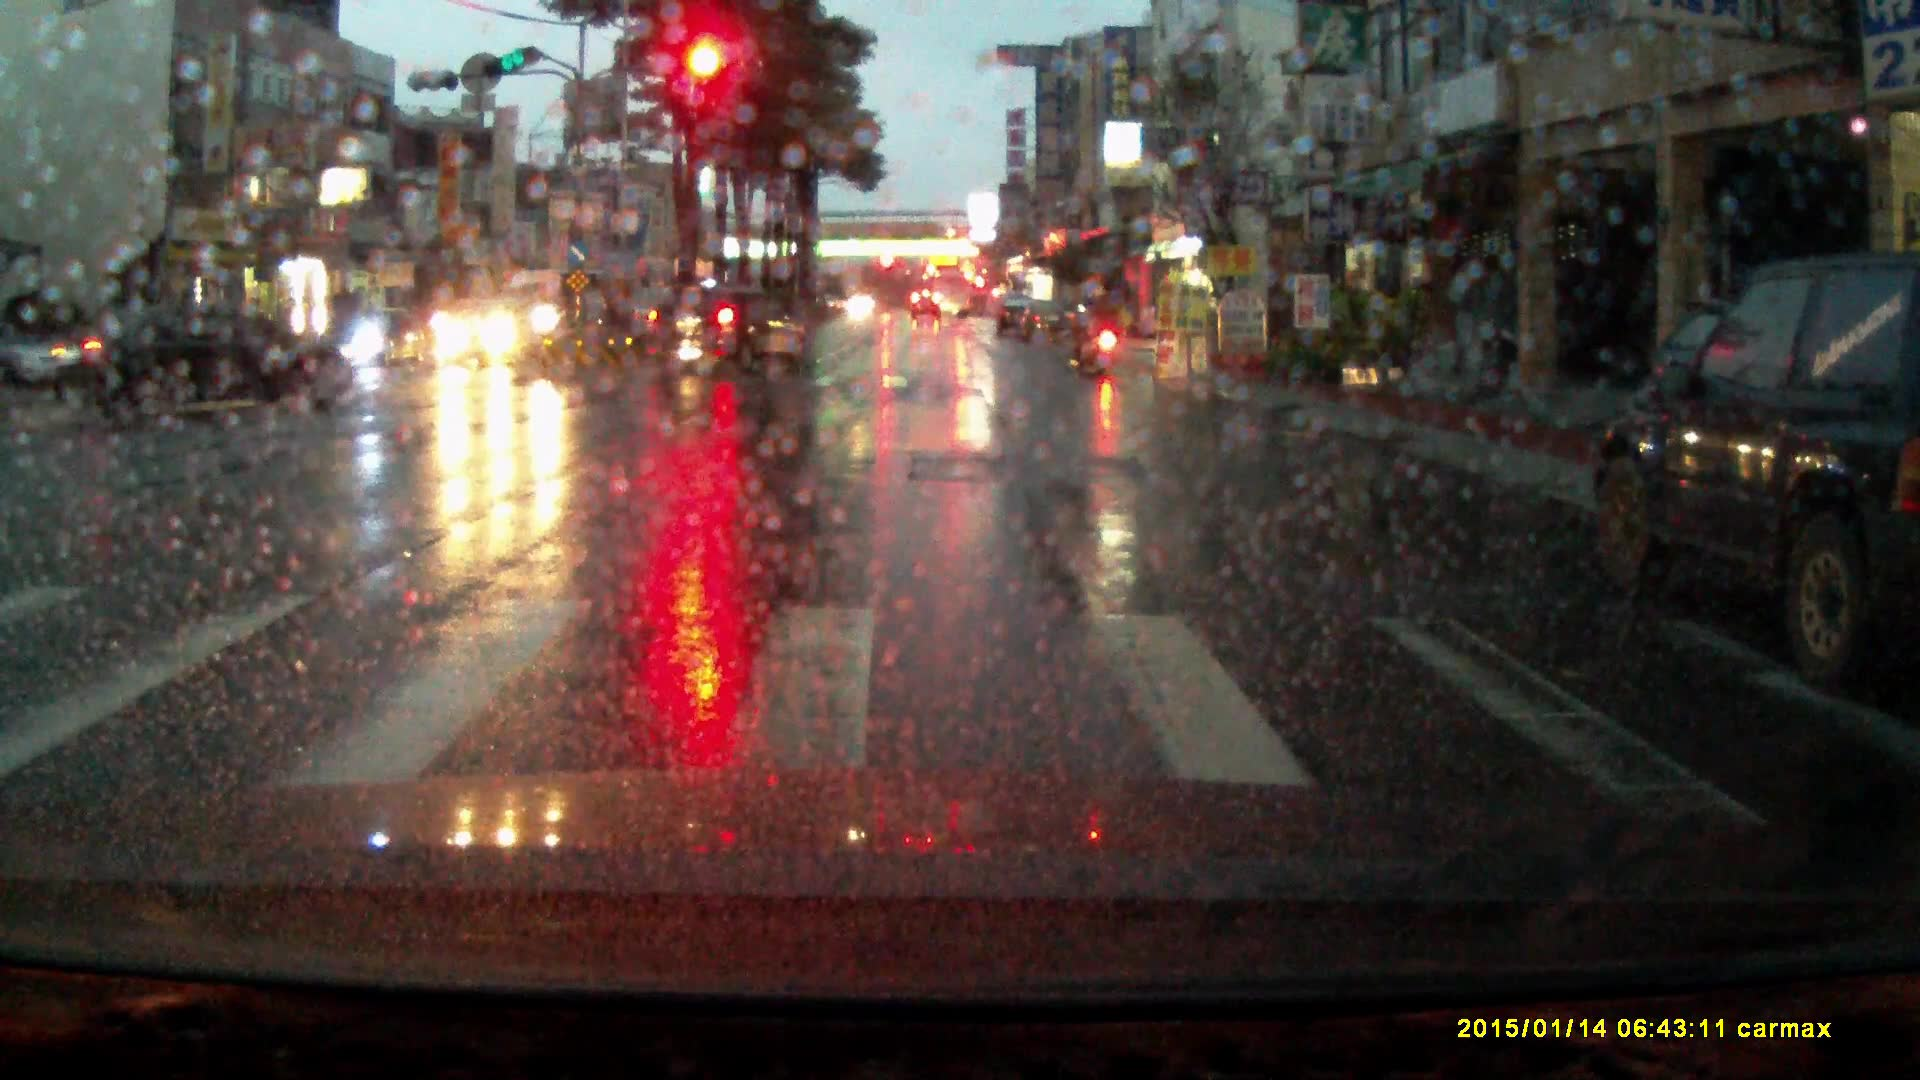rider: (1074, 278, 1127, 380)
vehicle: (1582, 248, 1920, 683), (49, 304, 352, 422), (640, 283, 810, 373), (431, 298, 546, 370), (316, 304, 429, 374), (494, 268, 591, 341), (574, 288, 664, 340), (1017, 300, 1079, 346), (931, 264, 973, 321), (995, 295, 1030, 338), (911, 291, 943, 322)
